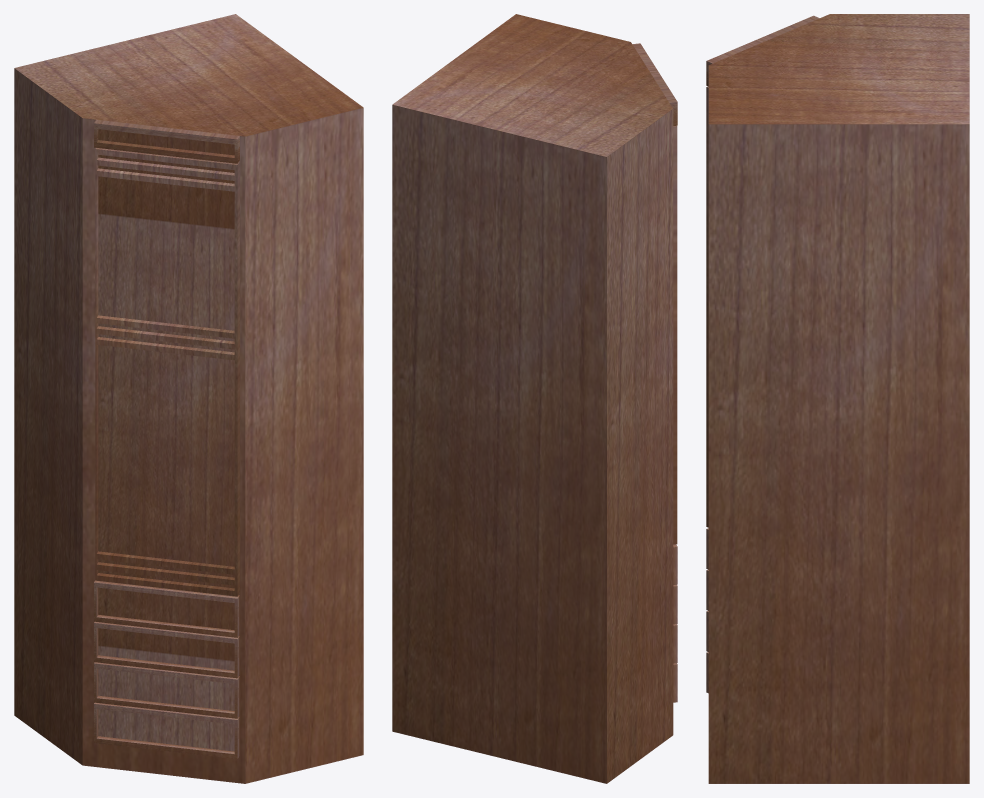
Rendered from mobileAngolo.obj.
3 views of the same model, side by side, from view 1: azimuth 30°, elevation 25°; view 2: azimuth 150°, elevation 25°; view 3: azimuth 270°, elevation 25° (orthographic). The views are drawn at different scales.
Visible parts, largest first — view 1: Line05_1, Box51_7, Line23_2, Line22_8, Line24_3, Line25_4, Line27_6, Line26_5; view 2: Line05_1, Line23_2, Line22_8; view 3: Line05_1, Line23_2, Line22_8.
Part boxes in pixels (x1,y1,x2,y2): Line05_1: [14, 14, 363, 783]; Box51_7: [98, 129, 234, 751]; Line23_2: [95, 148, 239, 596]; Line22_8: [94, 119, 239, 163]; Line24_3: [94, 580, 239, 637]; Line25_4: [94, 621, 239, 678]; Line27_6: [94, 702, 239, 759]; Line26_5: [94, 662, 239, 718]; Line05_1: [392, 14, 673, 783]; Line23_2: [673, 125, 677, 544]; Line22_8: [632, 43, 677, 125]; Line05_1: [708, 14, 969, 783]; Line23_2: [706, 86, 708, 527]; Line22_8: [706, 15, 819, 86].
Size of the model in its own units: 86 by 240 by 86.74.
1 material, 1 textured.
